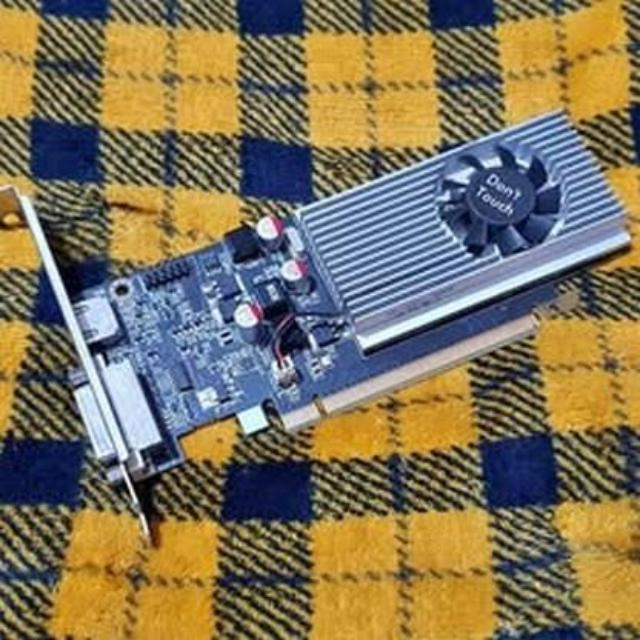GPU: (58, 106, 640, 466)
